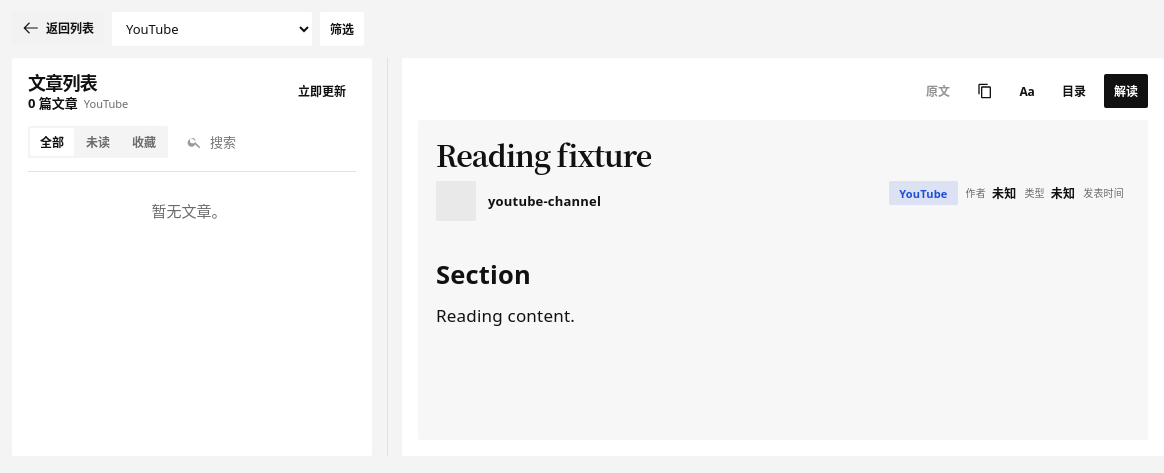
Test: ArticlesPage update entry › keeps source switching available in the tablet reader
Expected: the heading "Reading fixture" is shown, [436,134,651,175]
Select "RSS" in the dropdown named "来源" at (212, 29), box [112,12,312,46]
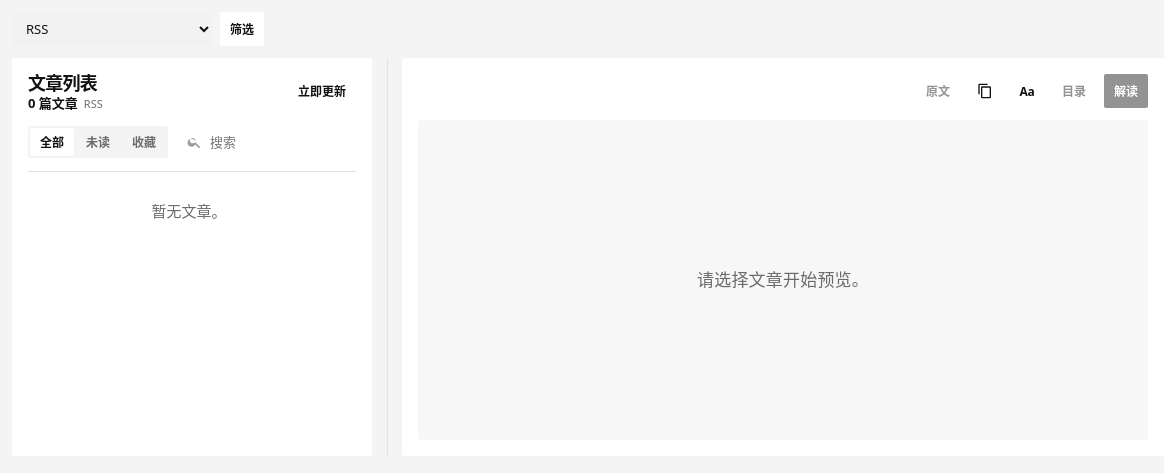
Now the heading with class "article-preview-title" is gone
